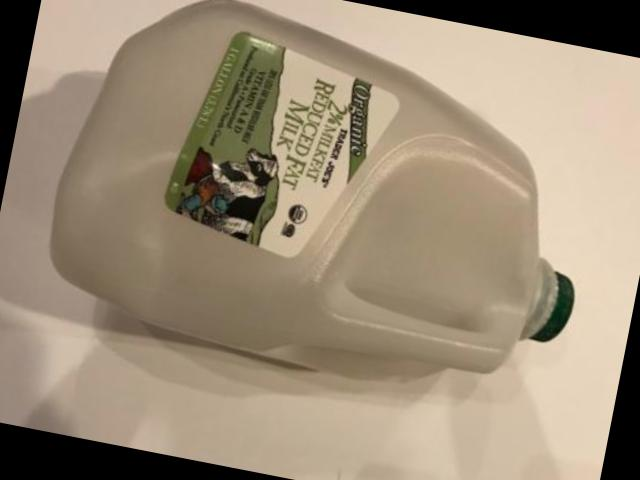plastic: (49, 0, 571, 370)
